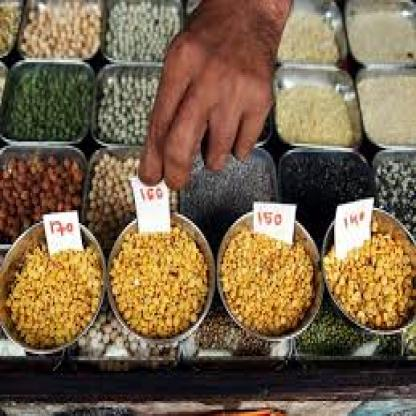Disposable tableware: (3, 0, 416, 416)
